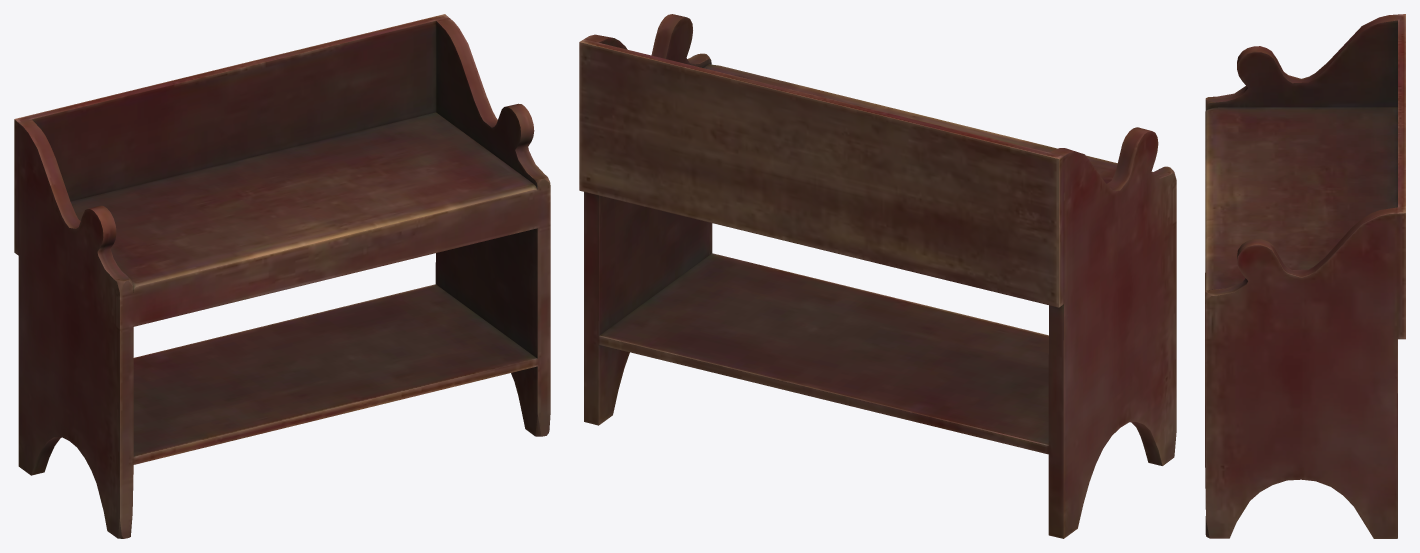
Rendered from painted_wooden_bench.glb.
3 renders of one model, left to right at view 1: azimuth 30°, elevation 25°; view 2: azimuth 150°, elevation 25°; view 3: azimuth 270°, elevation 25°, orthographic. The views are drawn at different scales.
Visible parts, largest first — view 1: painted_wooden_bench; view 2: painted_wooden_bench; view 3: painted_wooden_bench.
Part boxes in pixels (left/top/right/bottom): painted_wooden_bench: left=14, top=14, right=550, bottom=538; painted_wooden_bench: left=579, top=14, right=1176, bottom=538; painted_wooden_bench: left=1205, top=14, right=1405, bottom=538.
Size of the model in its own units: 1.16 by 0.8893 by 0.4965.
Materials: 1 (1 with a texture image).
